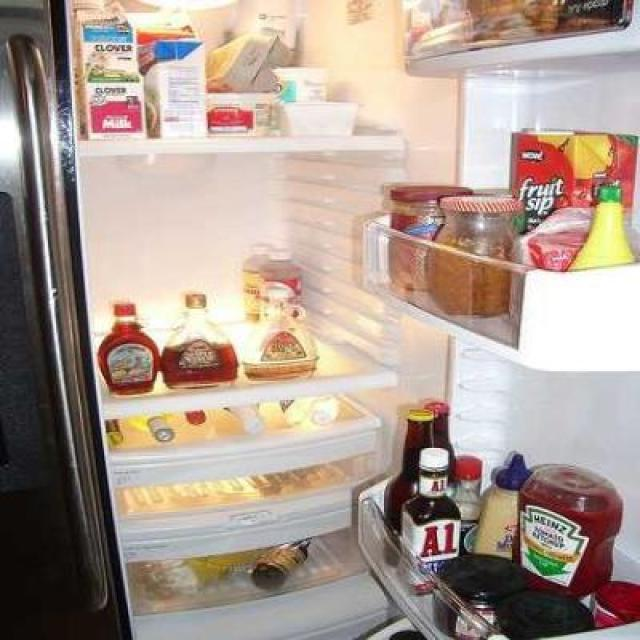refrigerator: (6, 15, 640, 639)
